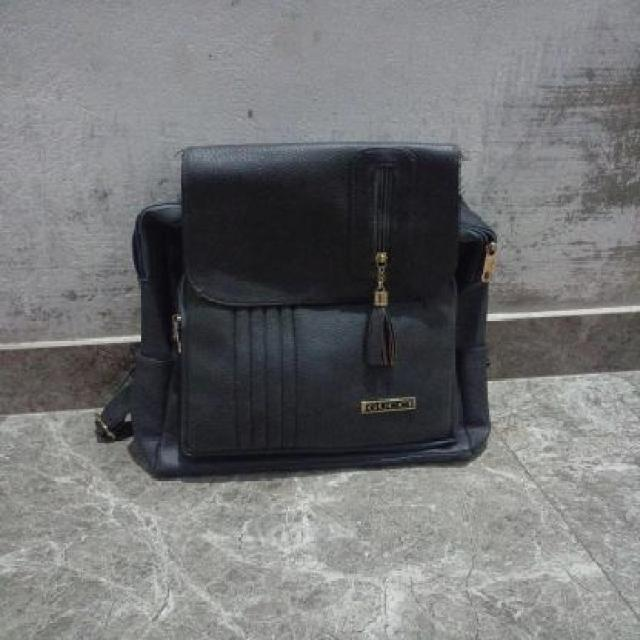backpack: (89, 136, 502, 484)
